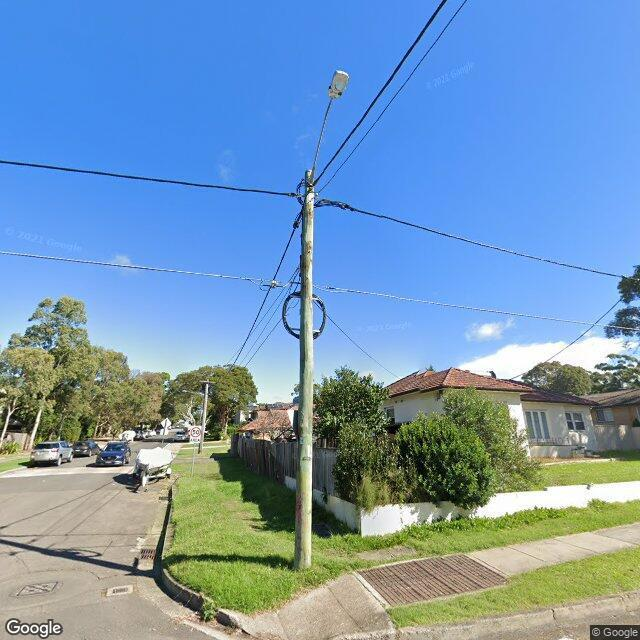streetlight: (306, 70, 351, 186)
timber-pole: (294, 169, 313, 572), (198, 382, 210, 454)
